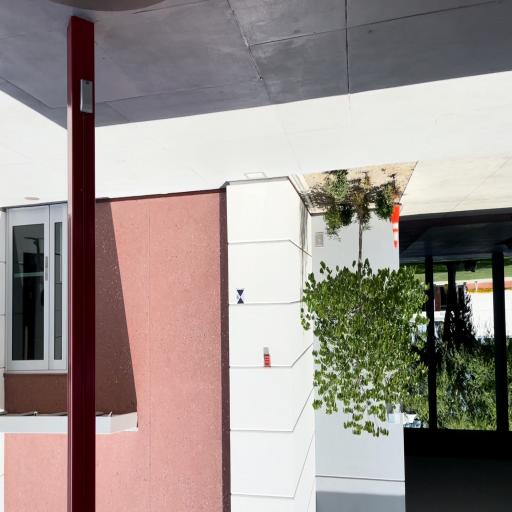target9: (236, 289, 245, 303)
